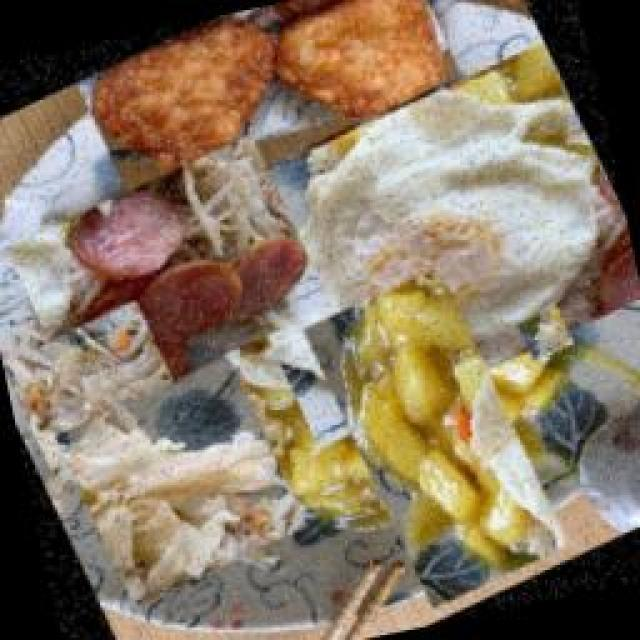chinese_cabbage: (45, 345, 318, 615)
chinese_sausage: (0, 122, 342, 427)
curry: (273, 273, 598, 598)
fried_eggs: (182, 30, 640, 460)
mung_bean_sprouts: (0, 288, 188, 478)
rice: (515, 303, 578, 363)
triangle_hash_brown: (68, 0, 478, 230)
